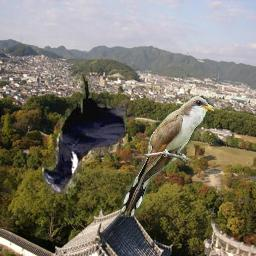Crow: (43, 76, 128, 195)
Cuckoo: (120, 97, 214, 218)
